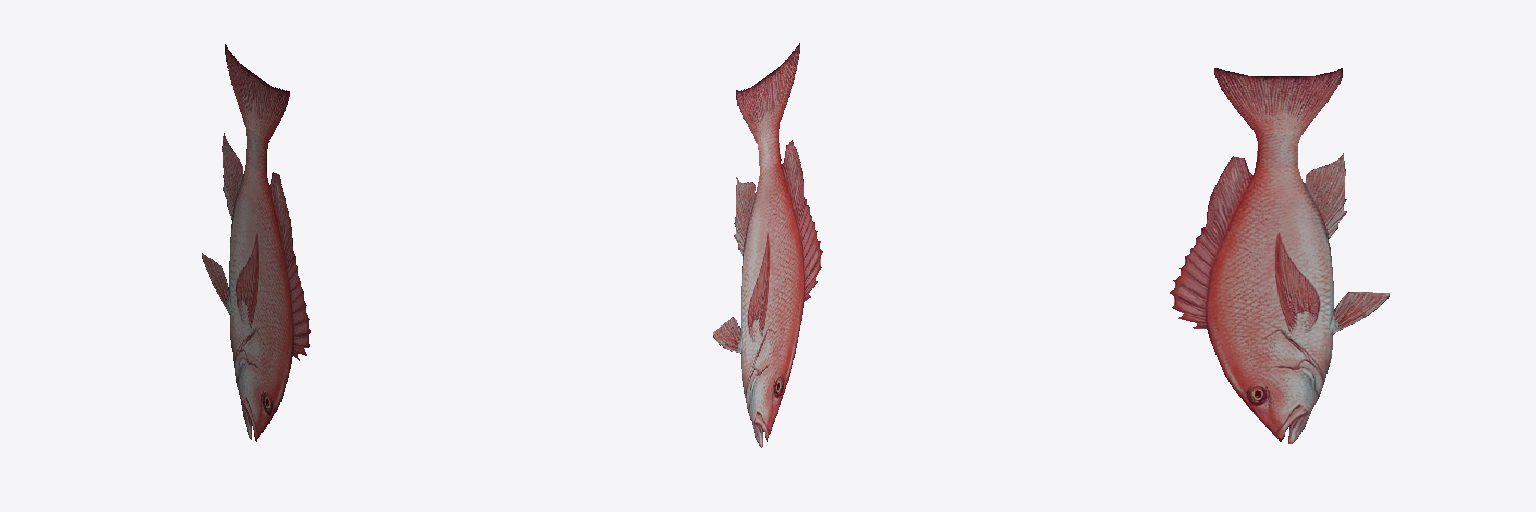
The picture shows the model from 3 angles: view 1: azimuth 30°, elevation 25°; view 2: azimuth 150°, elevation 25°; view 3: azimuth 270°, elevation 25°; orthographic projection.
Size of the model in its own units: 0.0098 by 2 by 1.06.
1 materials, 1 textured.